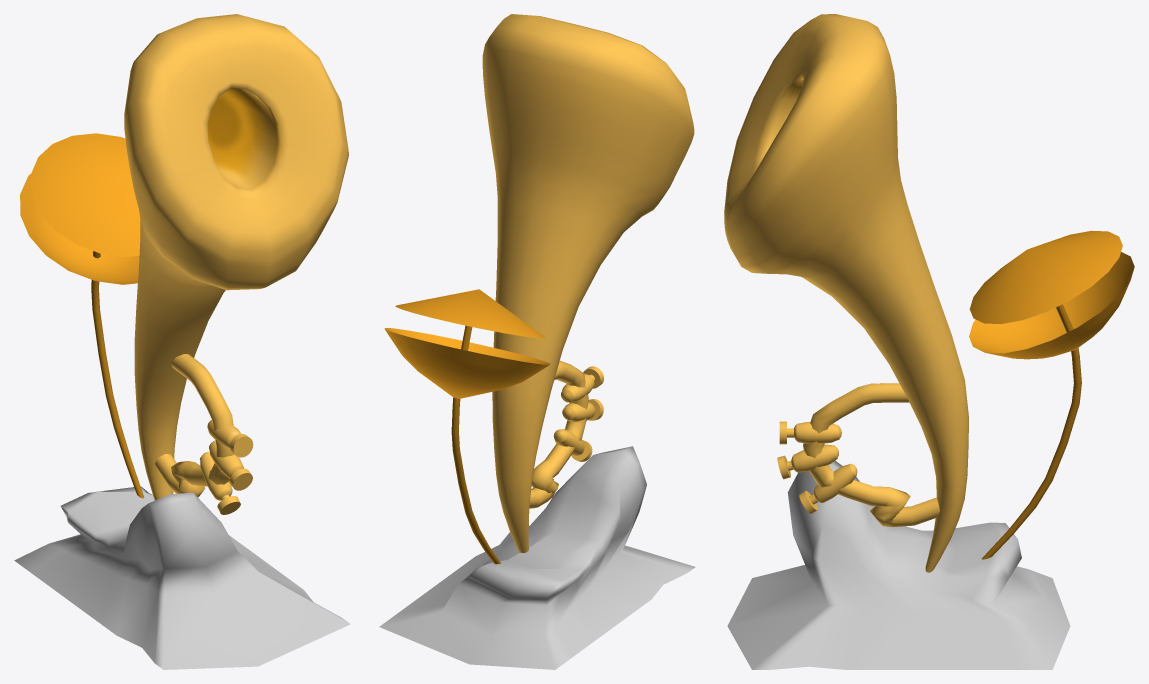
Rendered from cespuglio_tromba_v1.0.fbx.
3 renders of one model, left to right at view 1: azimuth 30°, elevation 25°; view 2: azimuth 150°, elevation 25°; view 3: azimuth 270°, elevation 25°, orthographic. The views are drawn at different scales.
Visible parts, largest first — view 1: cespuglio_tromba; view 2: cespuglio_tromba; view 3: cespuglio_tromba.
Part boxes in pixels (x1,y1,x2,y2): cespuglio_tromba: (14,14,350,669); cespuglio_tromba: (379,14,695,669); cespuglio_tromba: (724,14,1134,669).
Bounding box in the file's own units: 14.28 × 39.14 × 24.35.
